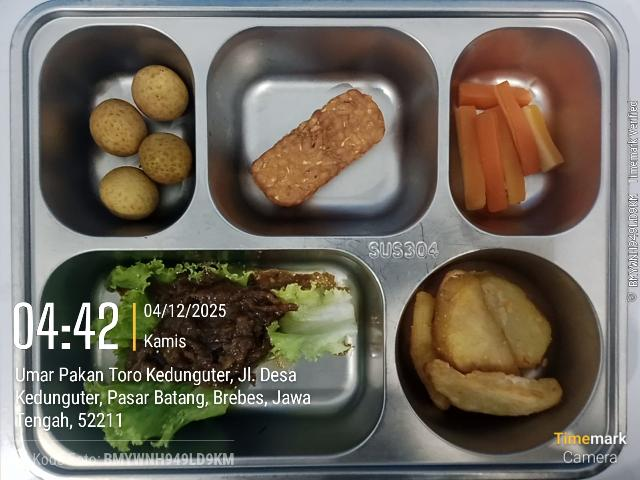ayam: (126, 274, 297, 387)
buah: (90, 99, 184, 156), (100, 164, 190, 219), (131, 65, 188, 122)
kentang: (409, 269, 562, 416)
sayur: (454, 81, 564, 212), (85, 382, 230, 452)
tempe: (251, 90, 385, 206)
